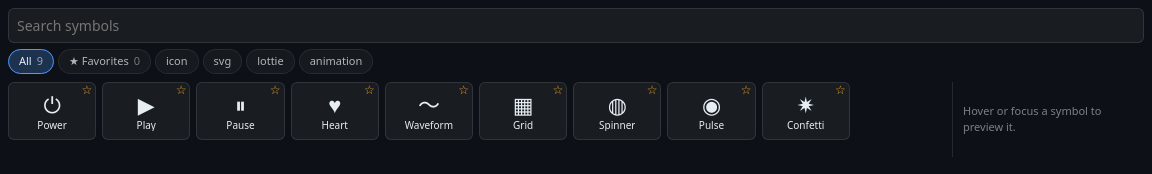
Scenario: Symbols tab (CD-404) › double-click drops a symbol and shows a live use-count badge
Double-click the button "▶ Play ☆".
double_click(146, 110)  # box [102,82,190,140]
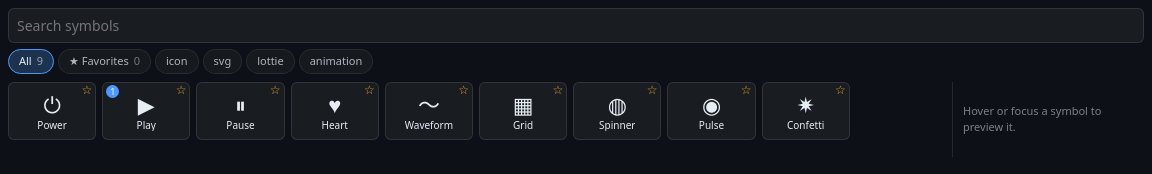
Now the text with test id "use-sym_play00" reads "1", box [110,84,115,98]
